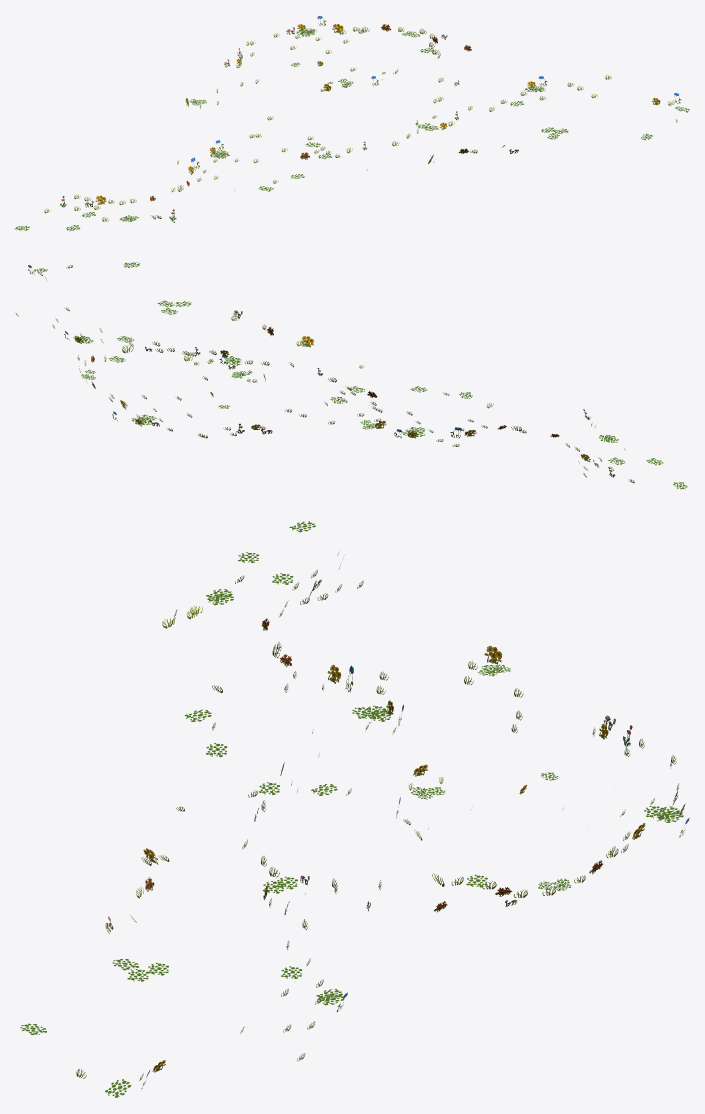
The model's file is Cunluo_c.FBX.
3 renders of one model, top to bottom at view 1: azimuth 30°, elevation 25°; view 2: azimuth 150°, elevation 25°; view 3: azimuth 270°, elevation 25°, orthographic. The views are drawn at different scales.
Visible parts, largest first — view 1: Plane002; view 2: Plane002; view 3: Plane002.
Boxes of the visible parts, x1,y1,x2,y2 form: Plane002: (15, 16, 689, 231); Plane002: (15, 262, 687, 489); Plane002: (20, 521, 689, 1097).
Size of the model in its own units: 4184 by 284 by 2038.
